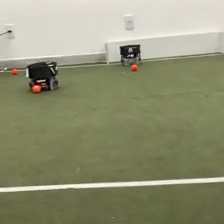ball: (30, 82, 42, 93), (130, 63, 139, 72), (10, 66, 18, 75)
goal: (102, 29, 224, 67)
robot: (24, 59, 62, 91), (118, 41, 142, 67)
